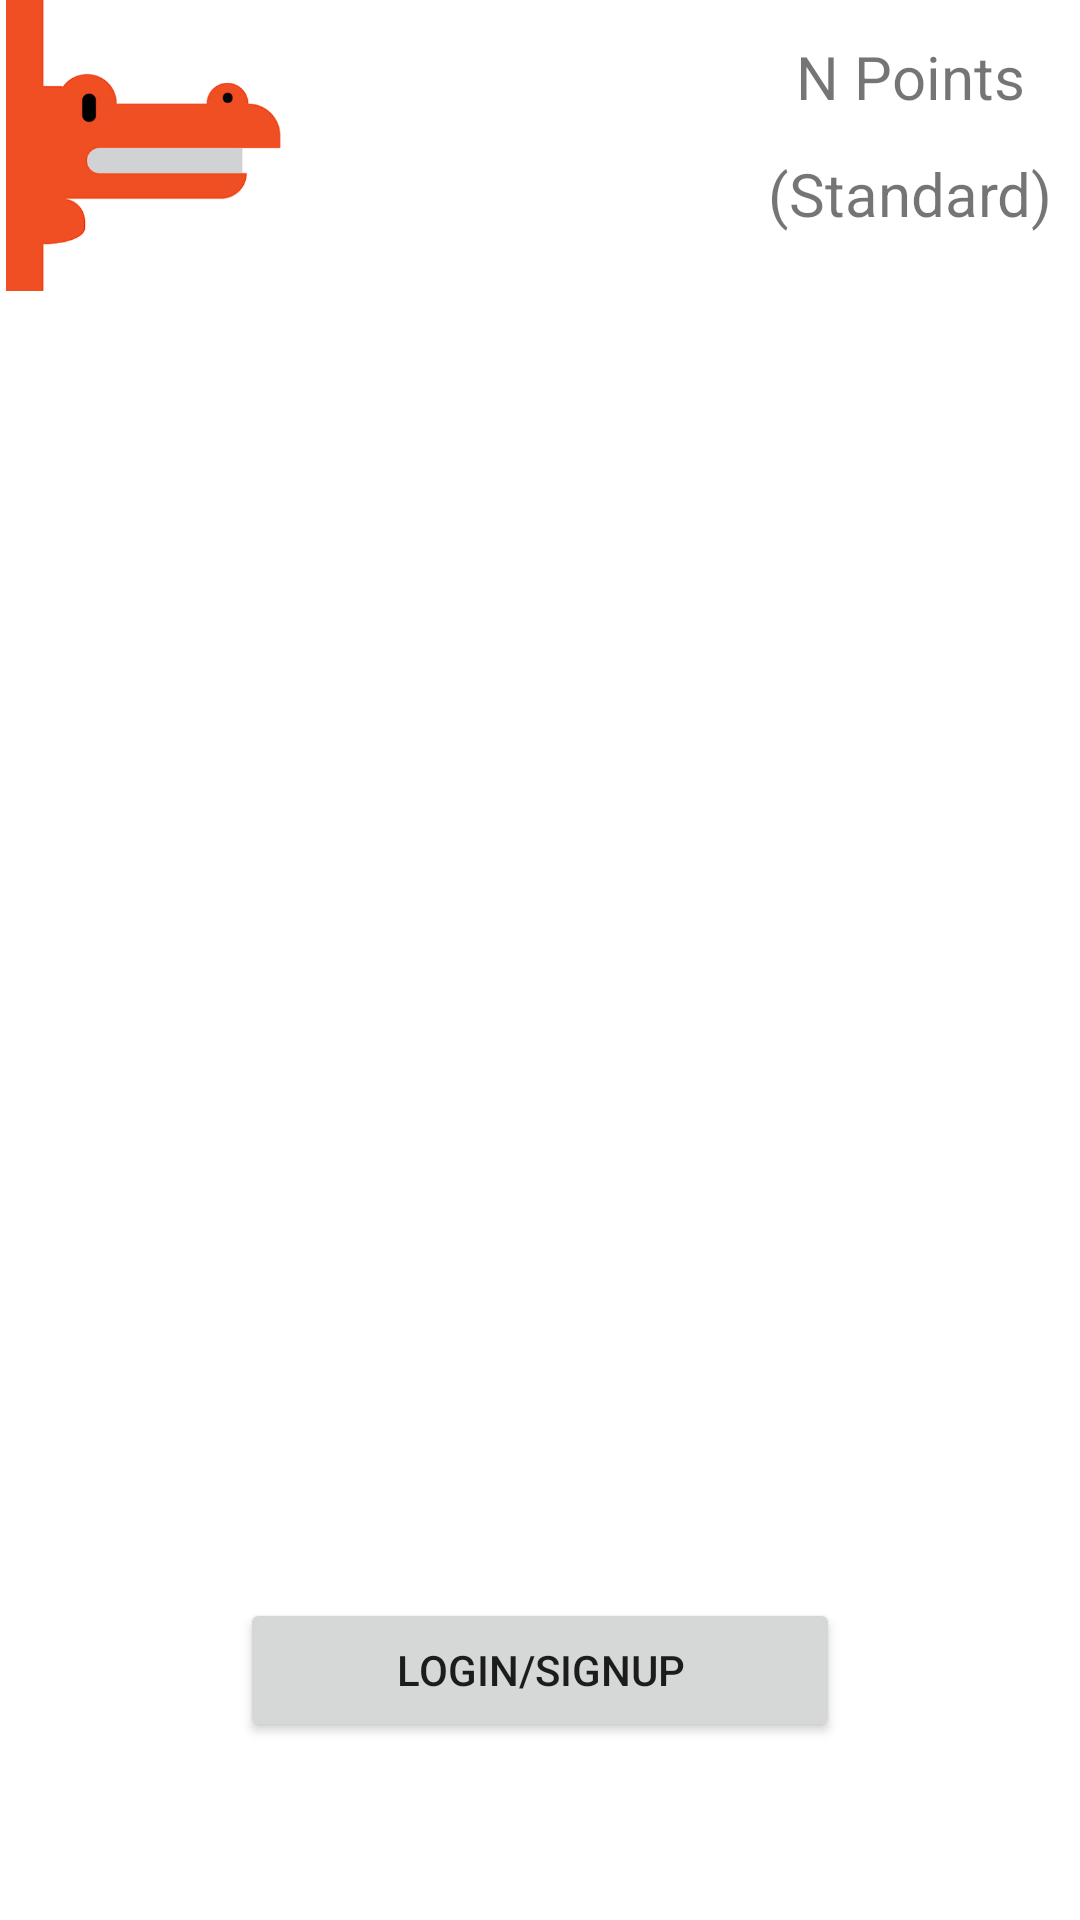

Screen size 1080px x 1920px. Icon name, then its center in pixels as [x,y]:
gator: [143,145]
